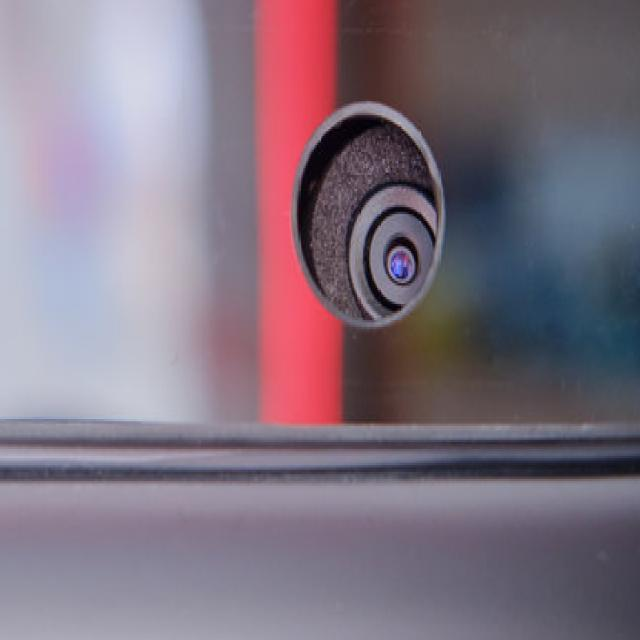hidden camera: (386, 236, 419, 288)
